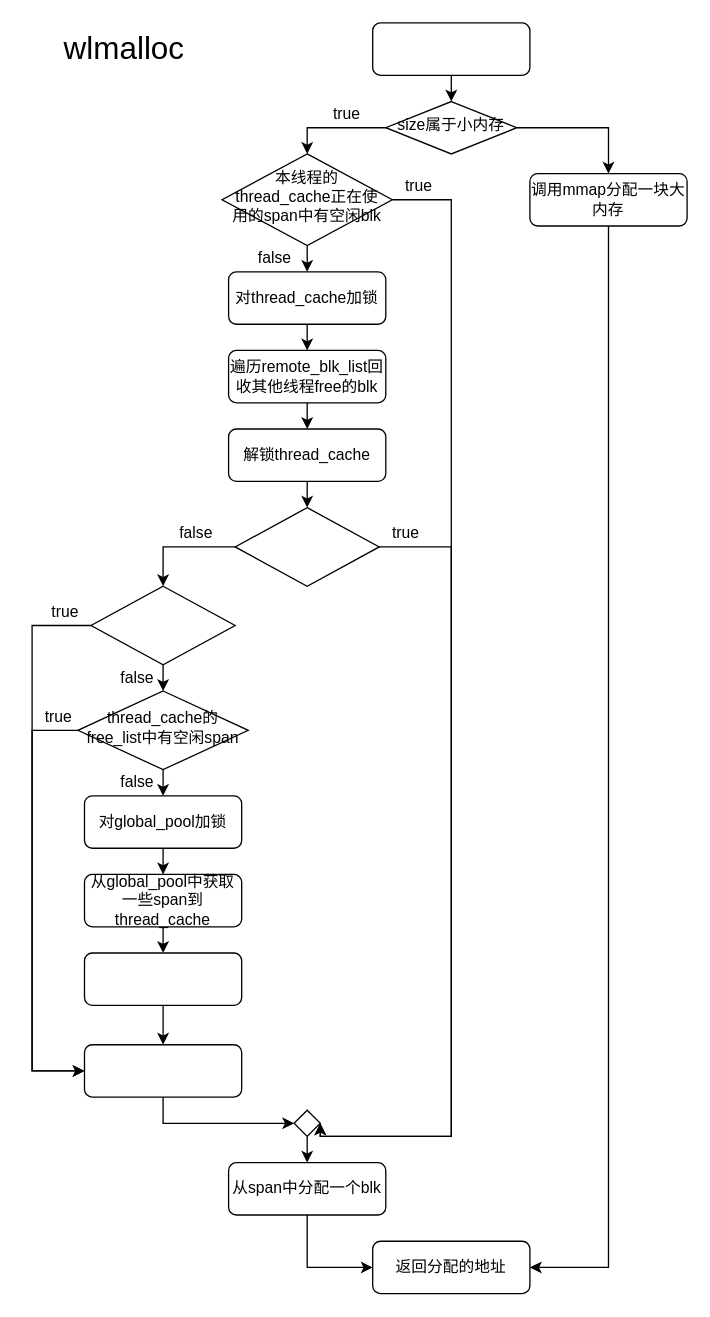
The diagram is 710 pixels wide and 1317 high, and some of its shapes have lost their labels. Here are the shapes that lost their labels. From the top down, the centre of each, then its label:
At point (450, 48): "分配size大小的内存".
At point (306, 546): "此时正在使用的span中有空闲blk".
At point (162, 625): "suspend状态的span中有空闲blk".
At point (162, 978): "解锁global_pool".
At point (162, 1070): "将该span换入到使用状态".
